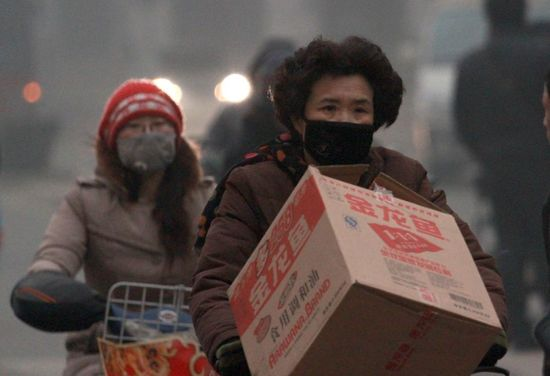face_mask: (305, 76, 375, 161), (116, 109, 176, 174)
